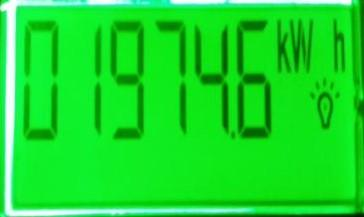.: (274, 19, 347, 73)
0: (229, 128, 238, 144)
1: (22, 17, 60, 144)
2: (92, 19, 104, 138)
5: (190, 19, 231, 134)
7: (234, 17, 275, 141)
8: (153, 18, 191, 139)
:: (108, 20, 148, 140)
